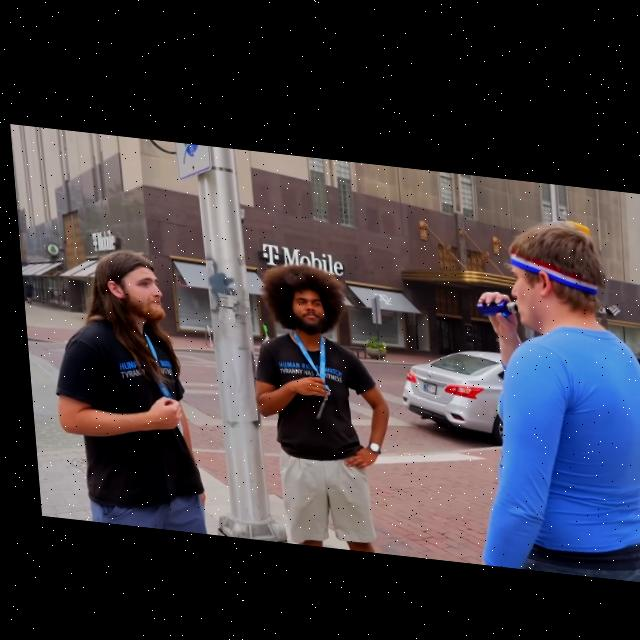vape: (471, 284, 516, 310)
